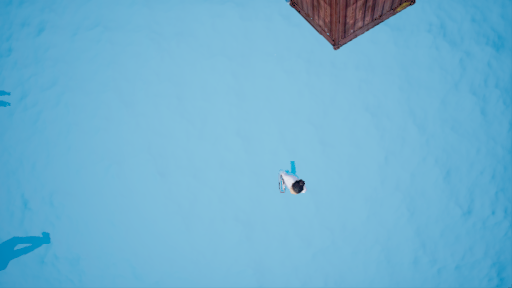person: (274, 161, 309, 204)
